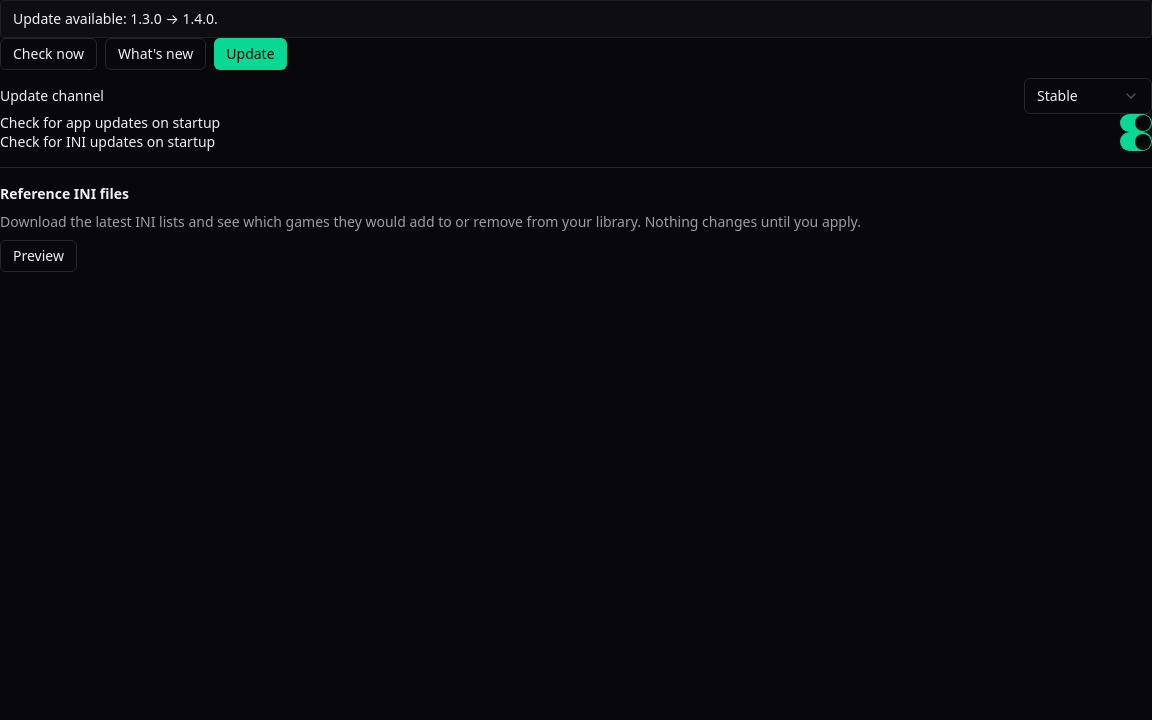
it: UpdatesTab (mame-curator-1010) › opens What's new with the sanitized notes
Click the button "What's new" at {"x": 156, "y": 54}, box [105,38,206,70]
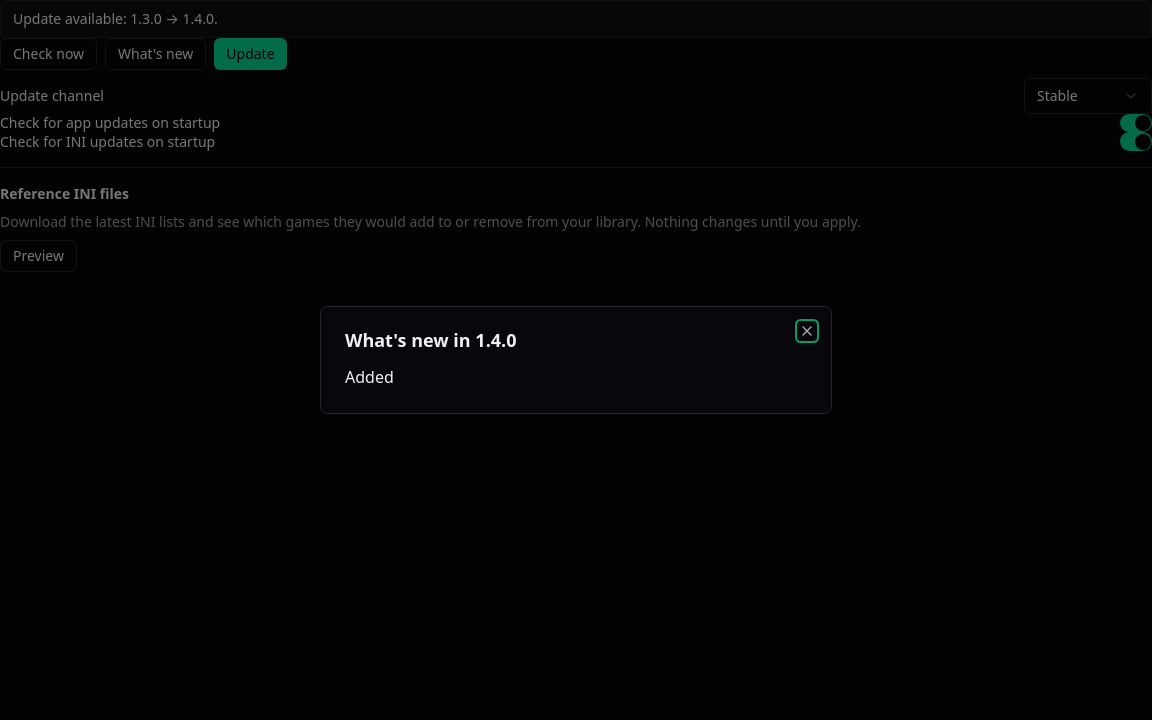
Expected: the heading "Added" is shown, [345,366,394,388]
